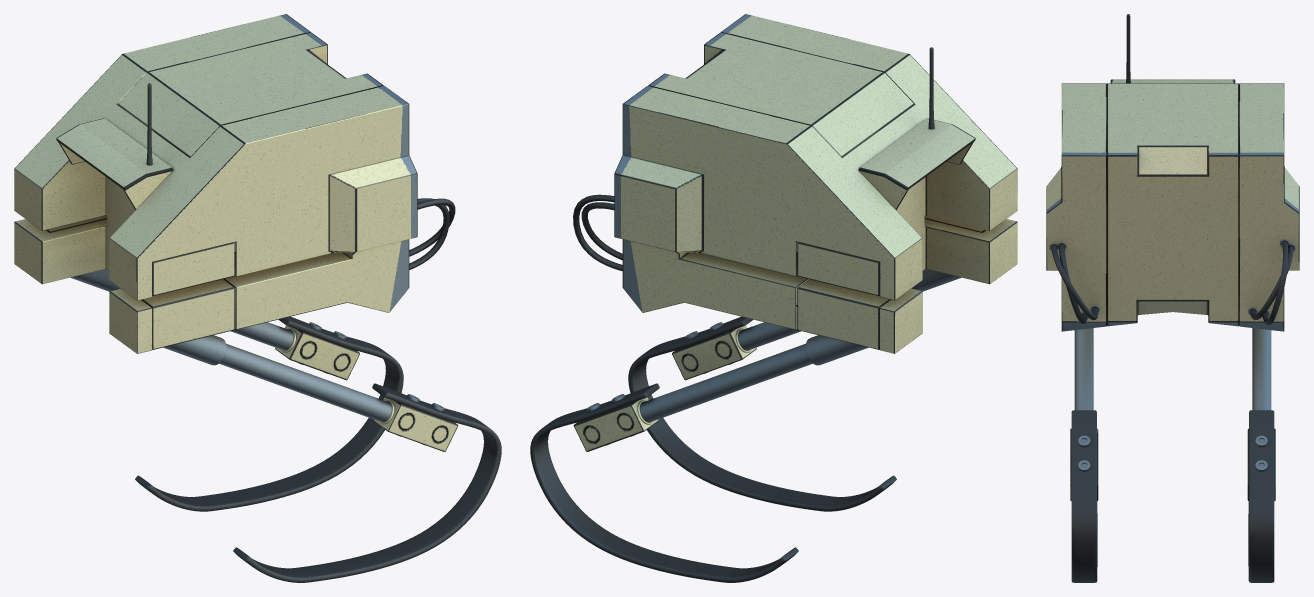
Rendered from yellowbot.glb.
The picture shows the model from 3 angles, left to right: view 1: azimuth 30°, elevation 25°; view 2: azimuth 150°, elevation 25°; view 3: azimuth 270°, elevation 25°; orthographic projection. The views are drawn at different scales.
Visible parts, largest first — view 1: yellowbot; view 2: yellowbot; view 3: yellowbot.
Part boxes in pixels (box(x1,y1,x2,y2)): yellowbot: box(14, 14, 501, 582); yellowbot: box(530, 14, 1017, 582); yellowbot: box(1046, 14, 1299, 582).
Bounding box in the file's own units: 2.75 × 3.63 × 1.8.
Materials: 4 (4 with a texture image).
